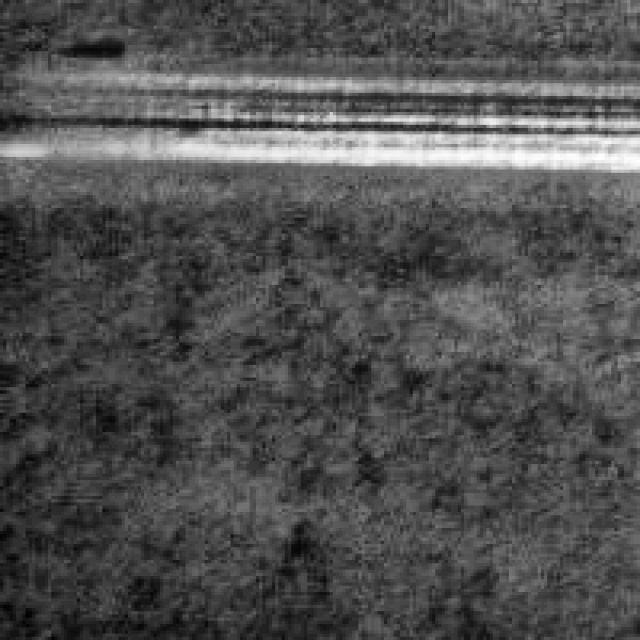Inclusion: (64, 76, 634, 170)
